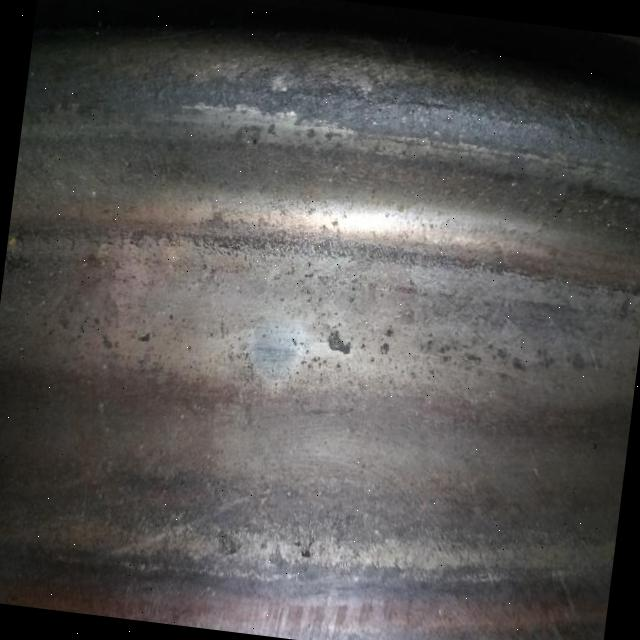Blue hole: (280, 524, 327, 570)
Contact_Fatigue_Cracks: (135, 30, 515, 145)
Peeling: (403, 321, 582, 392)
